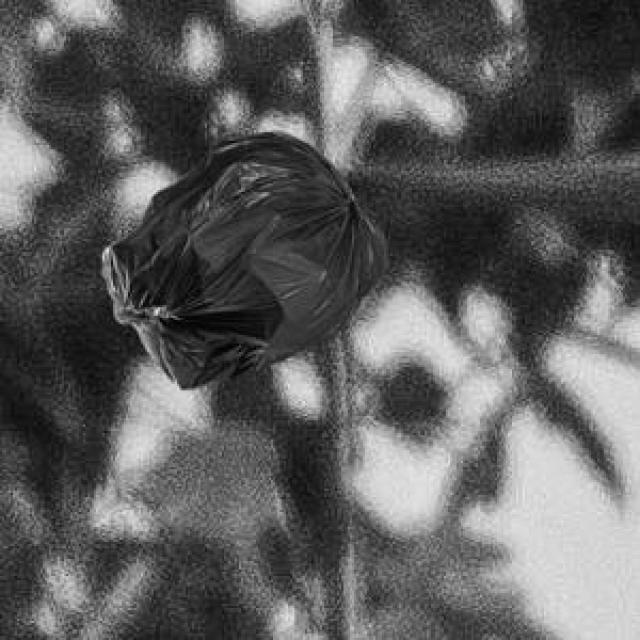miscellaneous trash: (98, 128, 384, 386)
